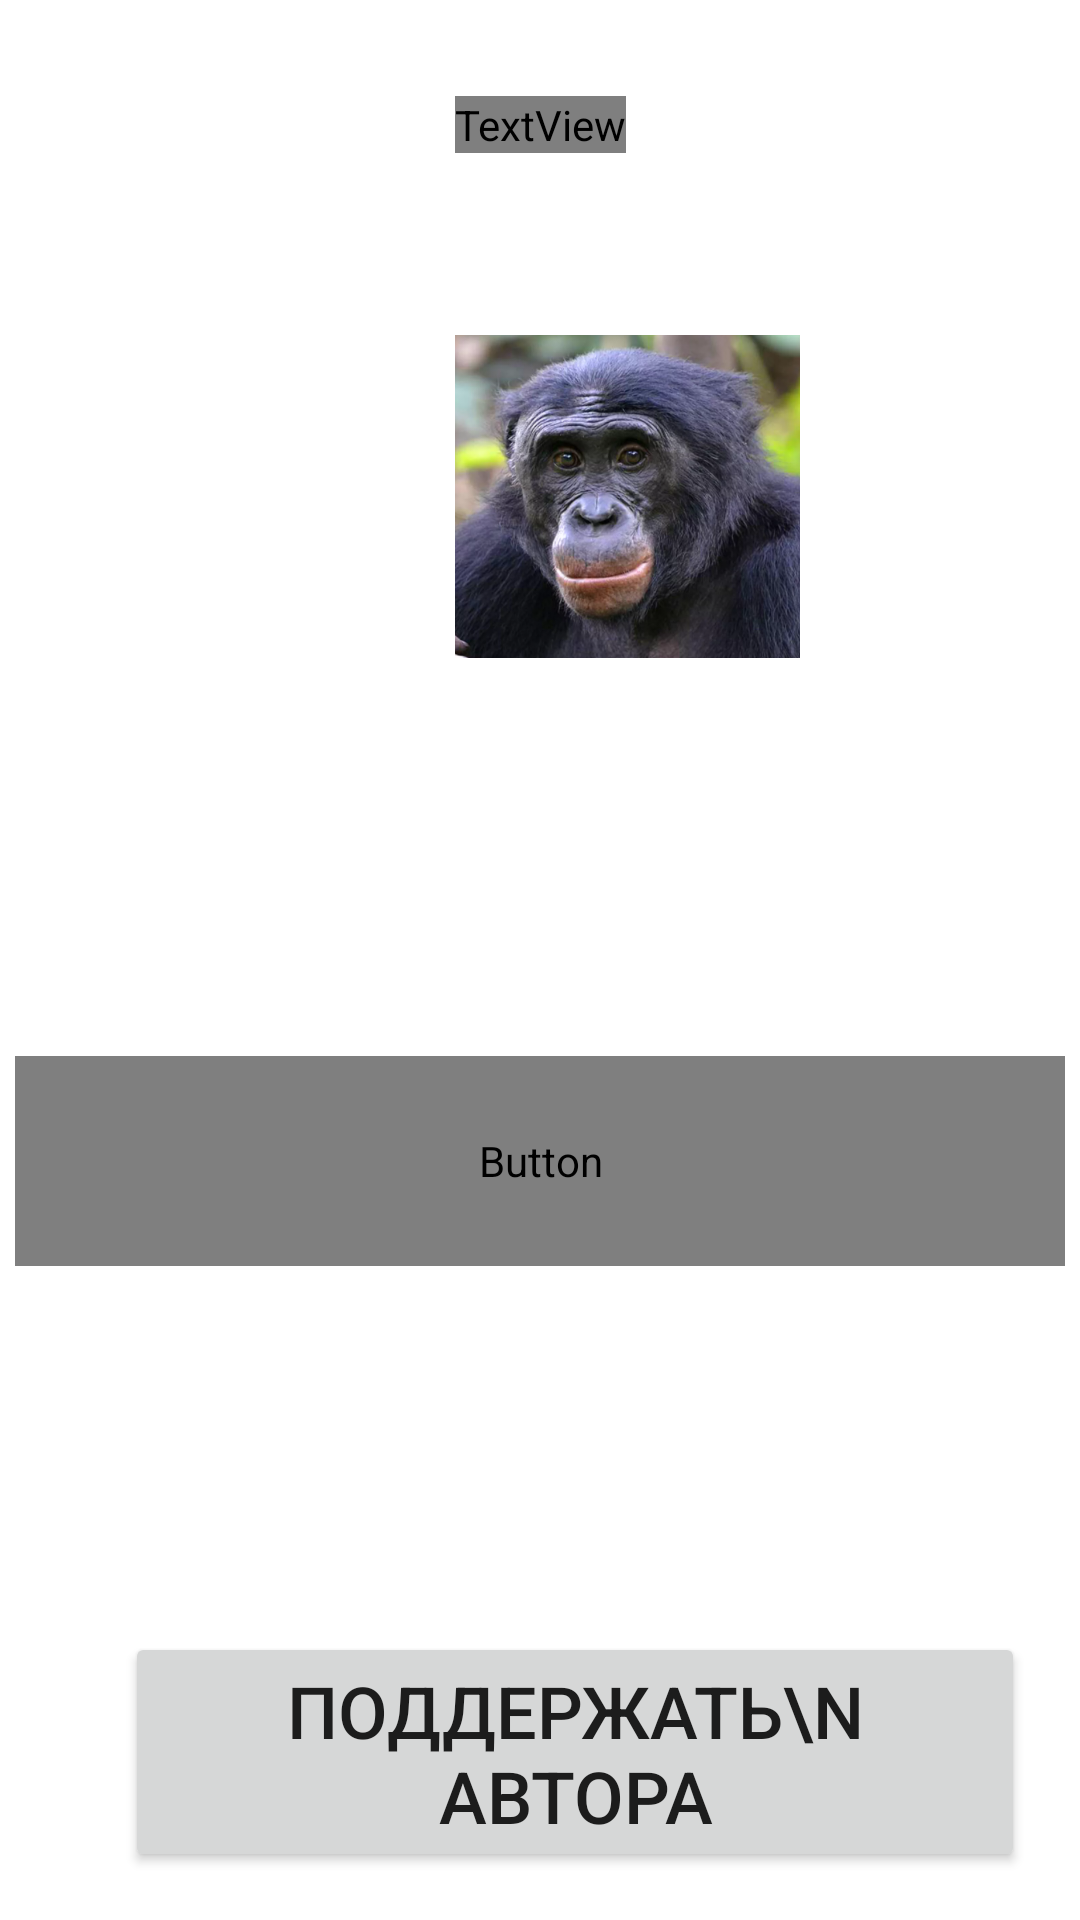

Where icons sit on this 1080 × 1920 app screen, as bbox=[x1, y1, x2, y2]:
primat: bbox=[455, 335, 800, 658]
